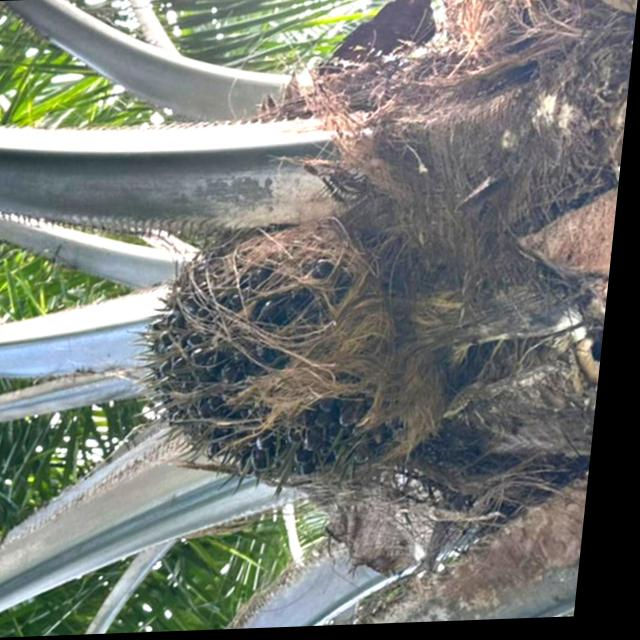almost: (127, 209, 465, 491)
